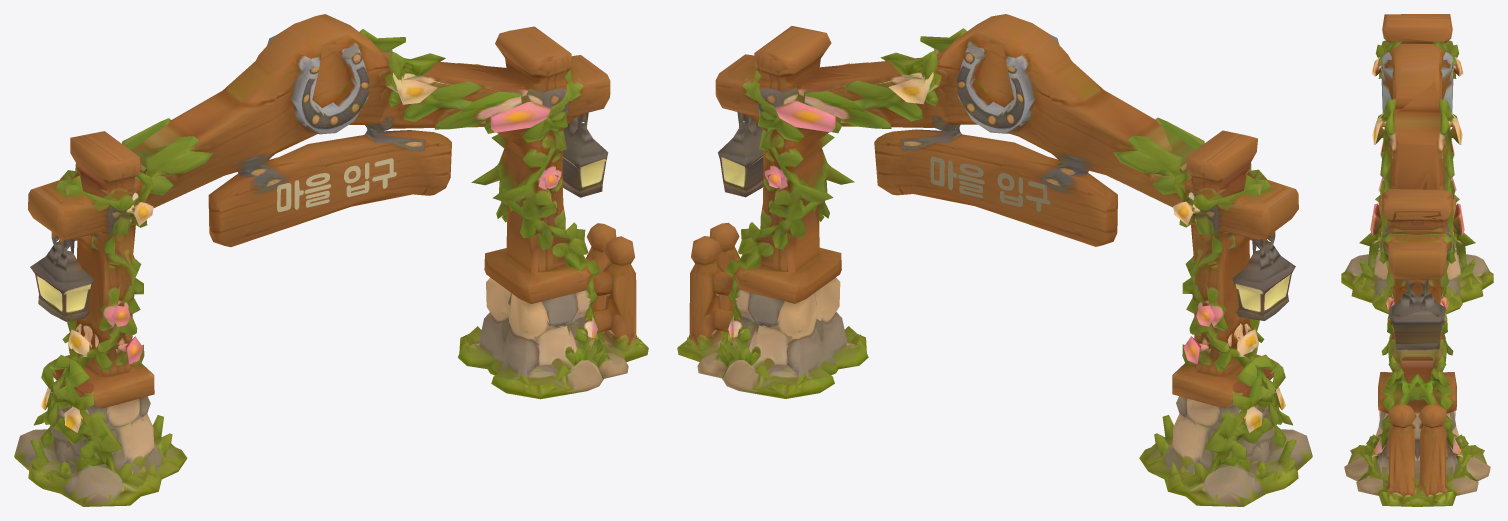
3 views of the same model, side by side, from view 1: azimuth 30°, elevation 25°; view 2: azimuth 150°, elevation 25°; view 3: azimuth 270°, elevation 25° (orthographic). The views are drawn at different scales.
Parts seen in each view (by area): view 1: Village Gate, Village entrance lettering; view 2: Village Gate, Village entrance lettering; view 3: Village Gate.
Boxes of the visible parts, x1,y1,x2,y2 form: Village Gate: [14, 14, 648, 506]; Village entrance lettering: [277, 158, 396, 211]; Village Gate: [677, 14, 1312, 506]; Village entrance lettering: [930, 156, 1050, 211]; Village Gate: [1341, 14, 1493, 506].
Bounding box in the file's own units: 6.75 × 4.24 × 1.77.
2 materials, 2 textured.
